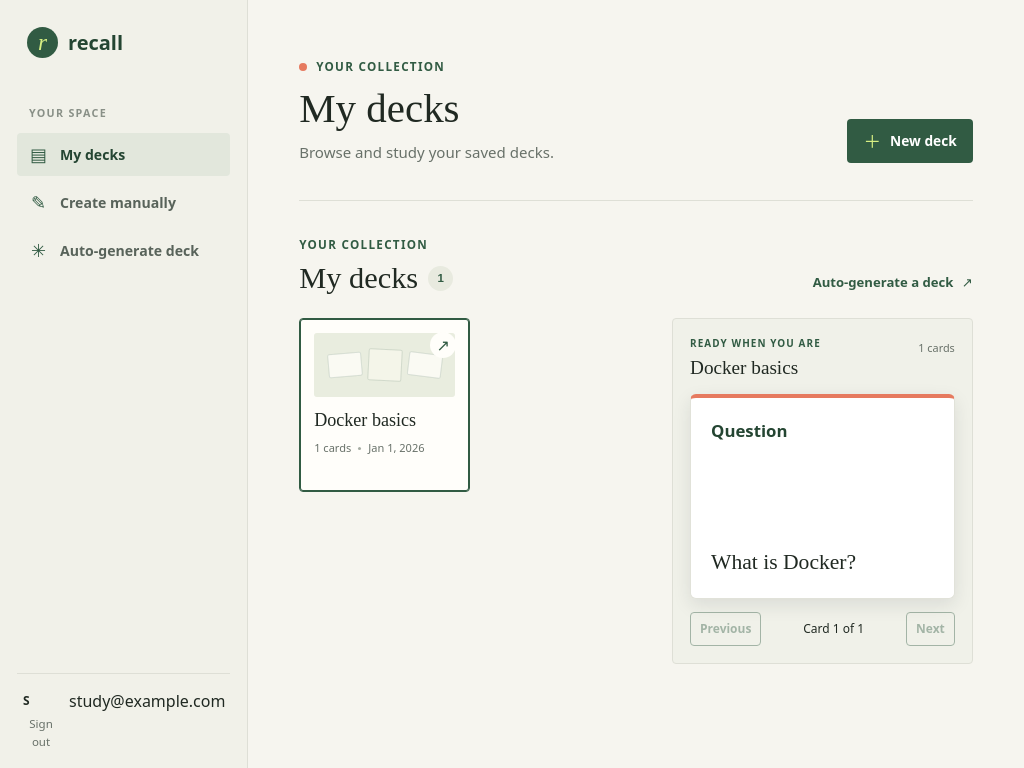
Test case: Dashboard › generates and saves a new deck for the signed-in user
The image size is (1024, 768).
Click the link "✳ Auto-generate deck". click: (115, 250)
box: [31,238,199,262]
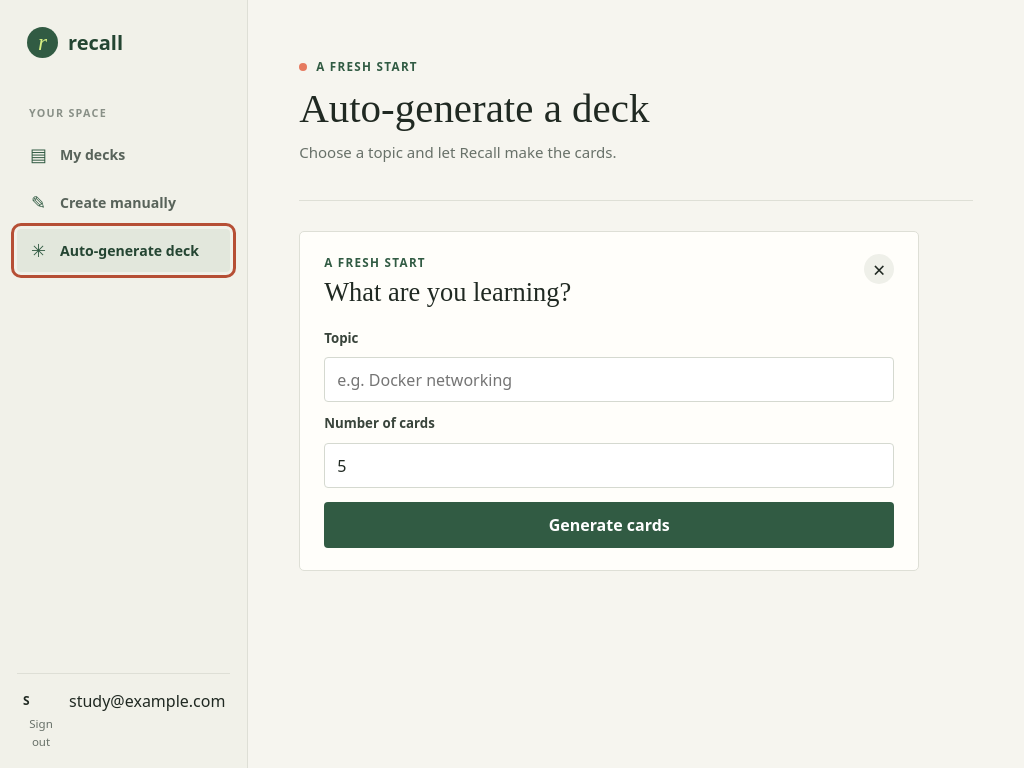
Type "French" into the field labelled "Topic". click: (609, 380)
box: [324,358,894,402]
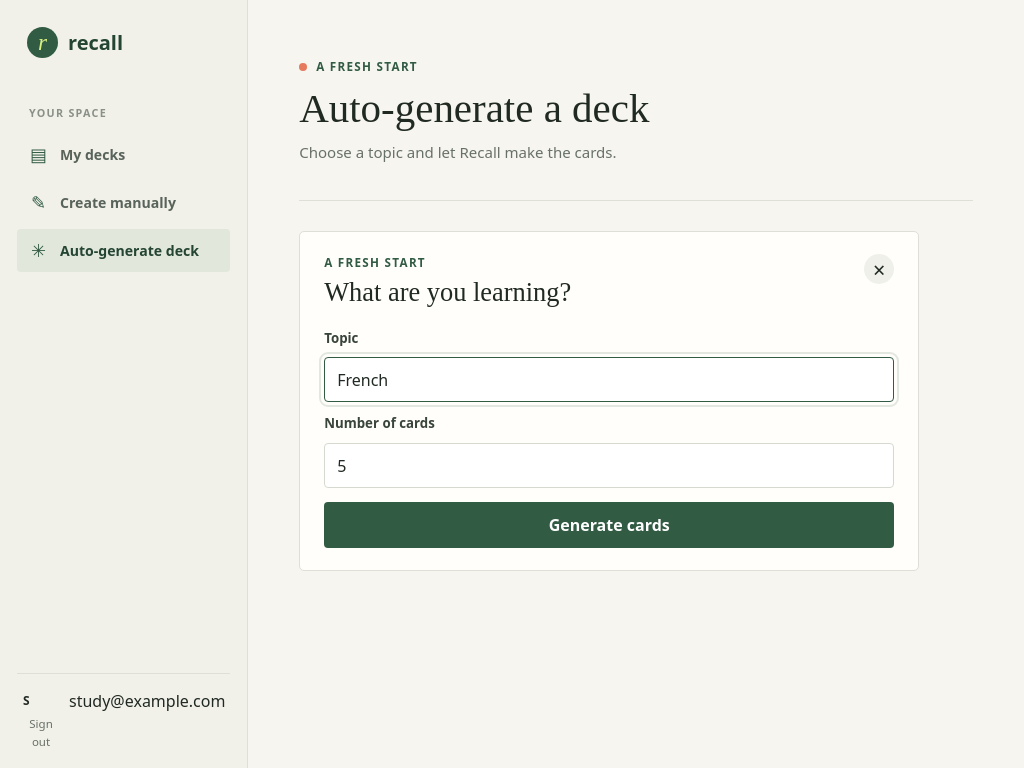
Click the button "Generate cards". click: (609, 525)
box: [324,502,894,548]
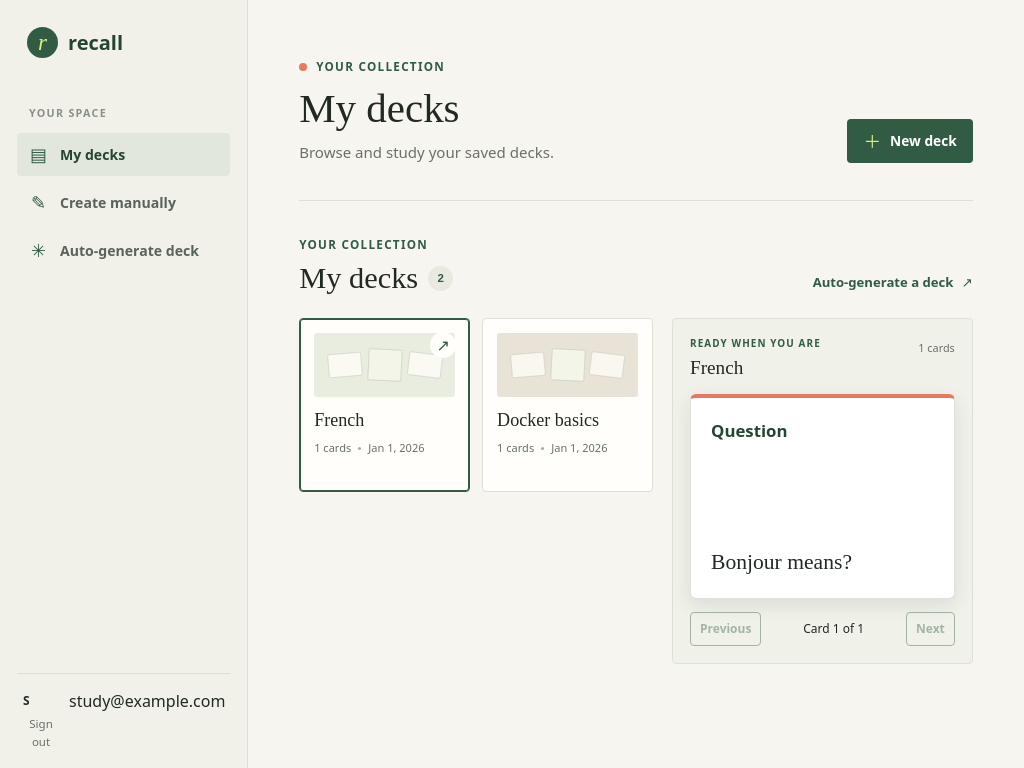
Check: the text "Bonjour means?" is shown, box [711,546,852,578]
Click the button with test id "flashcard". click: (749, 431)
box: [690,394,955,599]
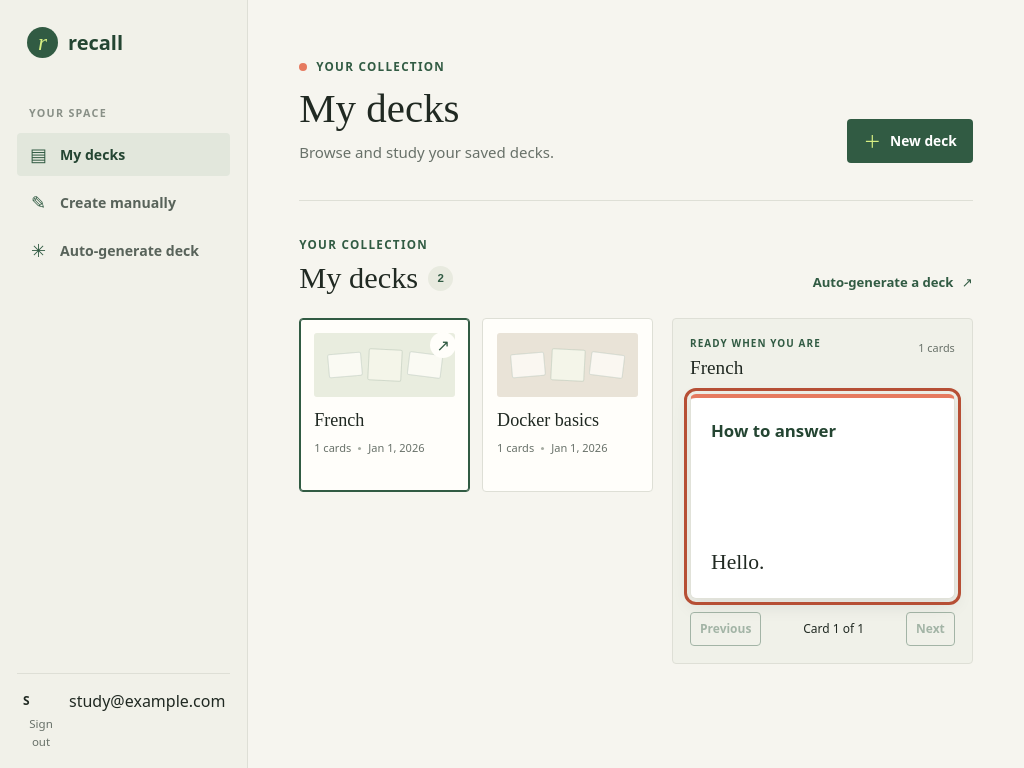
Check: the text "How to answer" is shown, box [711,418,836,443]
